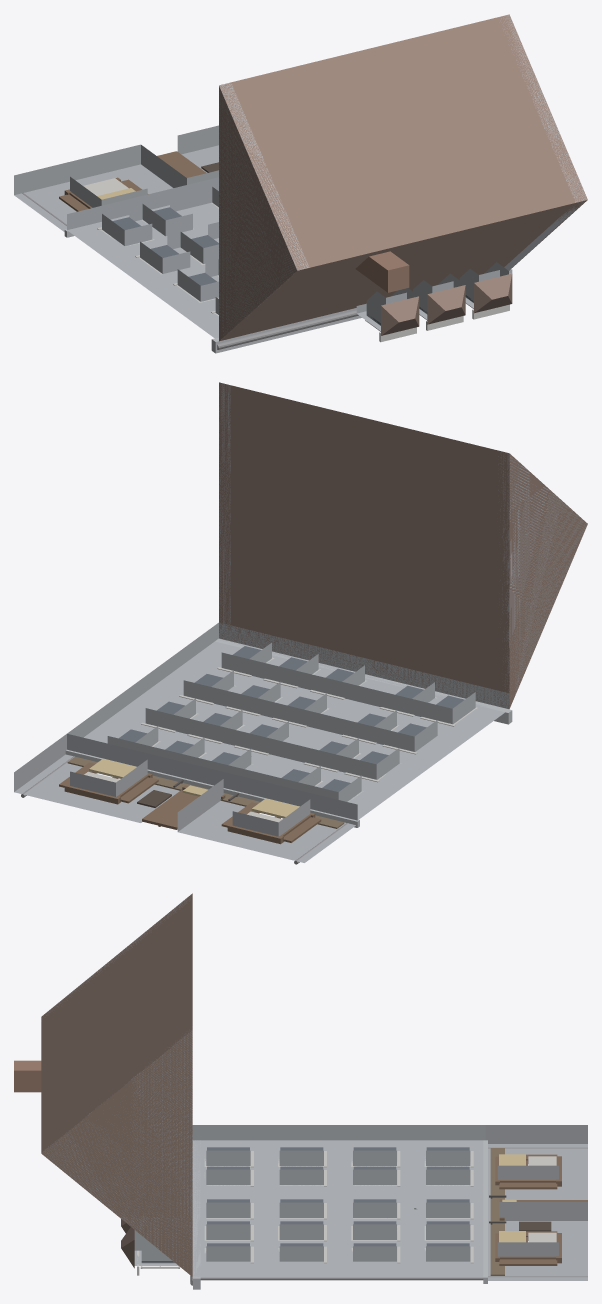
File: ganter_measured.glb
The picture shows the model from 3 angles, top to bottom: view 1: azimuth 30°, elevation 25°; view 2: azimuth 150°, elevation 25°; view 3: azimuth 270°, elevation 25°; orthographic projection. The views are drawn at different scales.
Parts seen in each view (by area): view 1: dach, fassade, eg_sockel, giebel, gaube_dach, gaube, schornstein, fenster, gesims, rahmen, schaufenster, rinne (+1 smaller); view 2: dach, fassade, eg_sockel, giebel, fenster, schaufenster, gesims, rahmen, warmlicht, band; view 3: fassade, dach, eg_sockel, giebel, fenster, rahmen, schaufenster, gesims, rinne, band, schornstein, gaube (+2 smaller).
Part boxes in pixels (left/top/right/bottom): dach: left=219, top=14, right=587, bottom=341; fassade: left=67, top=177, right=218, bottom=338; eg_sockel: left=14, top=125, right=218, bottom=231; giebel: left=219, top=15, right=587, bottom=339; gaube_dach: left=381, top=273, right=512, bottom=335; gaube: left=356, top=262, right=508, bottom=330; schornstein: left=355, top=251, right=409, bottom=292; fenster: left=112, top=207, right=473, bottom=324; gesims: left=64, top=206, right=512, bottom=353; rahmen: left=97, top=202, right=509, bottom=342; schaufenster: left=59, top=151, right=206, bottom=211; rinne: left=22, top=193, right=511, bottom=349; dach: left=219, top=382, right=587, bottom=708; fassade: left=67, top=622, right=509, bottom=819; eg_sockel: left=14, top=733, right=357, bottom=862; giebel: left=219, top=383, right=587, bottom=697; fenster: left=119, top=646, right=464, bottom=791; schaufenster: left=59, top=761, right=321, bottom=844; gesims: left=65, top=639, right=512, bottom=827; rahmen: left=141, top=657, right=477, bottom=801; warmlicht: left=89, top=758, right=299, bottom=818; band: left=67, top=756, right=344, bottom=828; fassade: left=192, top=1125, right=485, bottom=1277; dach: left=41, top=893, right=192, bottom=1276; eg_sockel: left=485, top=1125, right=587, bottom=1280; giebel: left=42, top=894, right=192, bottom=1266; fenster: left=141, top=1147, right=469, bottom=1262; rahmen: left=137, top=1151, right=473, bottom=1275; schaufenster: left=495, top=1154, right=587, bottom=1265; gesims: left=193, top=1140, right=487, bottom=1289; rinne: left=190, top=1147, right=587, bottom=1285; band: left=490, top=1148, right=504, bottom=1275; schornstein: left=14, top=1060, right=41, bottom=1092; gaube: left=134, top=1230, right=178, bottom=1265.
Bounding box in the file's own units: 9.7 × 9.54 × 16.84.
